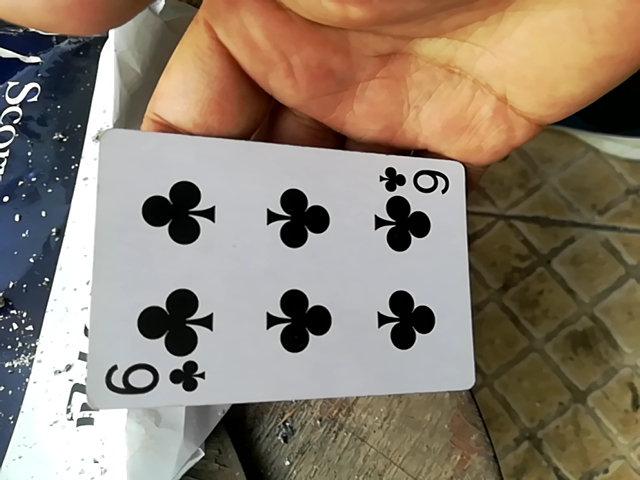mh 6: (72, 125, 468, 416)
